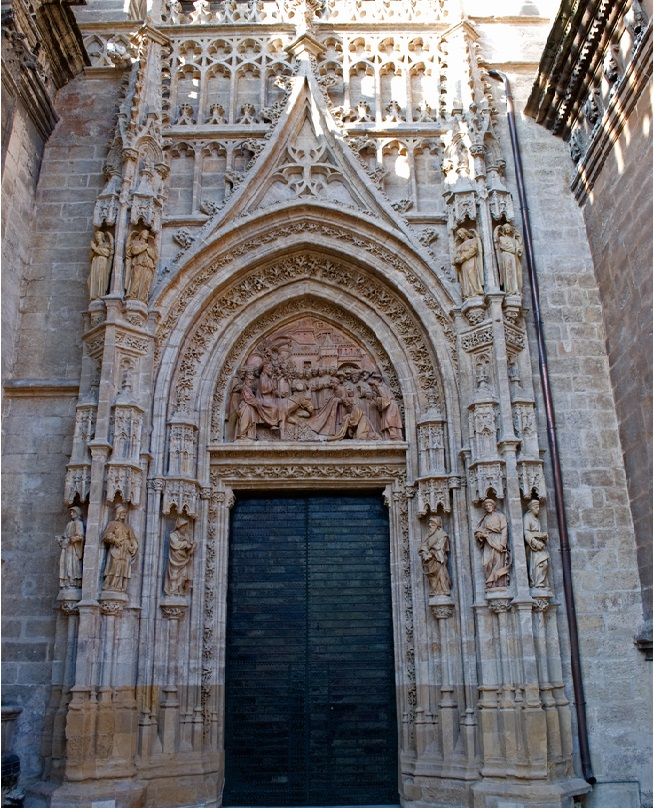arco-apuntado: (175, 198, 433, 437)
